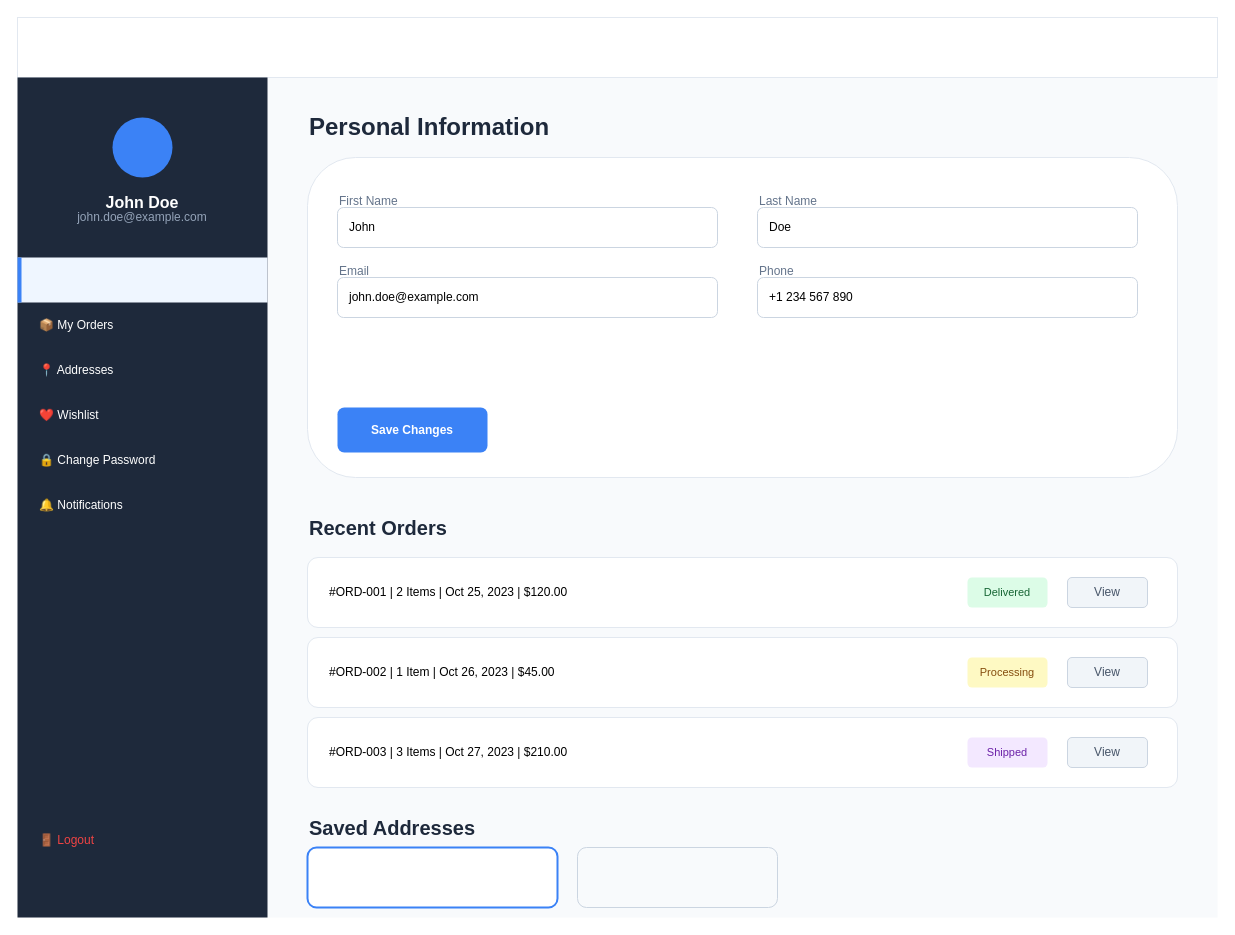
Image size: 1235x935. Some labels were removed from this diagram. The shapes that lost their labels are listed below. From the top down, each one's box as (x1, y1, x2, y2) in pixels, then its label:
(16, 16, 1218, 78): DASHBOARD
(112, 117, 172, 177): JD
(17, 257, 267, 302): 👤 Personal Info
(306, 846, 558, 908): 🏠 Home (Default) 123 Main St, Apt 4B New York, NY 10001
(576, 846, 778, 908): + Add Address
